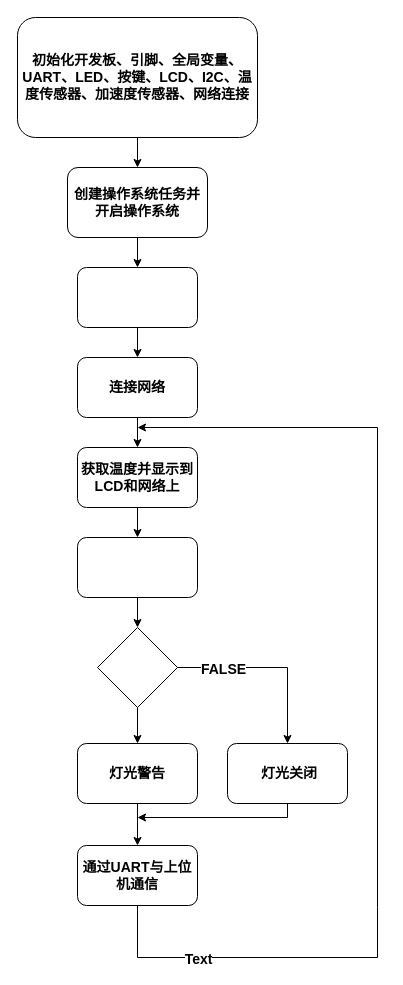
Some shapes in this 403 by 985 pixel diagram are drawn without their labels. The centre of each missing label's shape, as x and y in pixels:
if 移动: pixel 137 667
获取加速度传感器的状态: pixel 137 567
获取硬件信息: pixel 137 297
